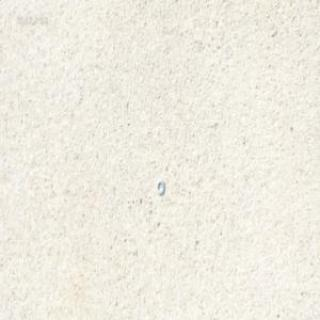Washertrack_idkeyframe: (156, 178, 164, 194)
